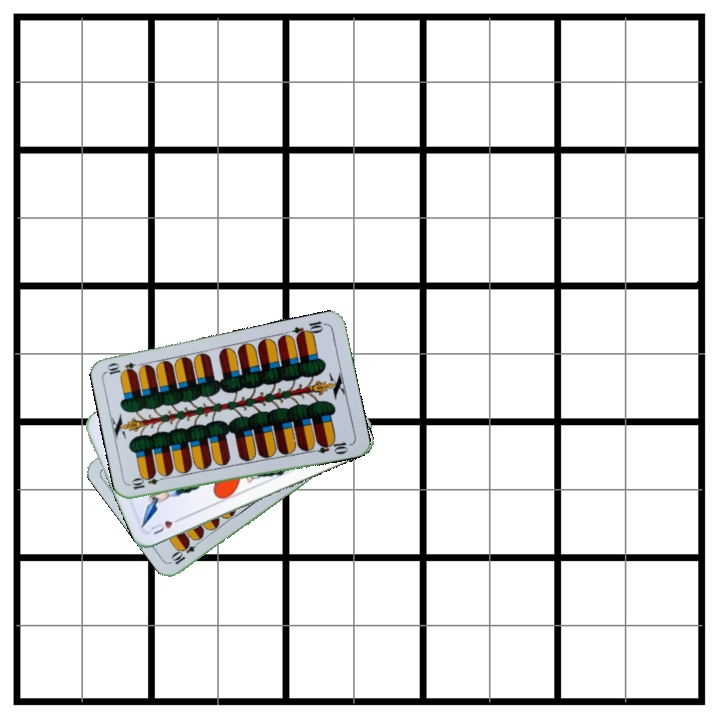E10: (168, 535, 204, 567), (289, 317, 329, 341), (128, 472, 168, 492)
HU: (146, 513, 185, 537)
